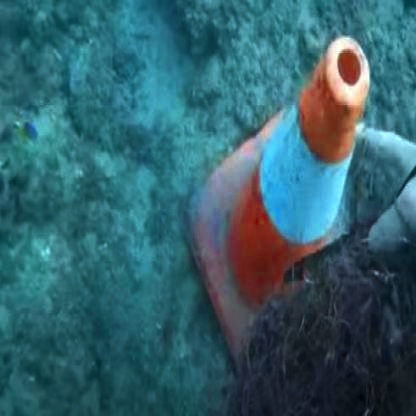misc: (162, 10, 370, 374)
